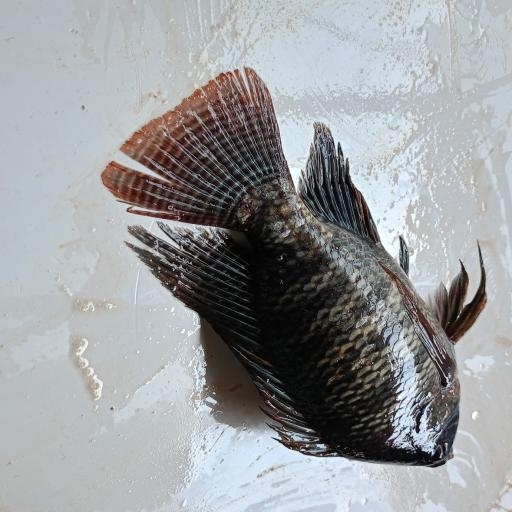Tilapia: (101, 67, 489, 468)
